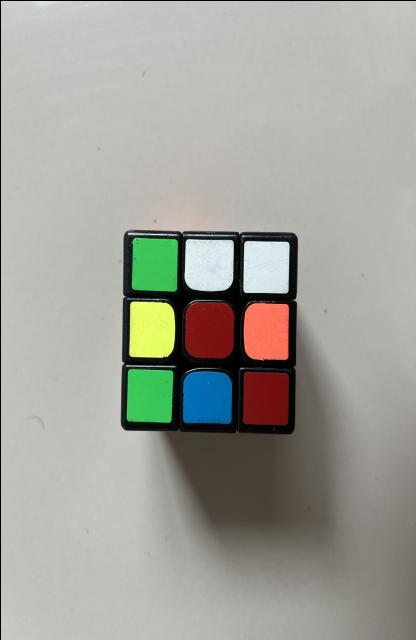Blue: (182, 370, 231, 422)
Green: (131, 236, 177, 291), (126, 368, 172, 422)
Orange: (243, 302, 288, 359)
Red: (184, 301, 233, 358), (242, 371, 288, 425)
White: (183, 238, 233, 290), (242, 240, 288, 292)
Yellow: (128, 300, 174, 356)
